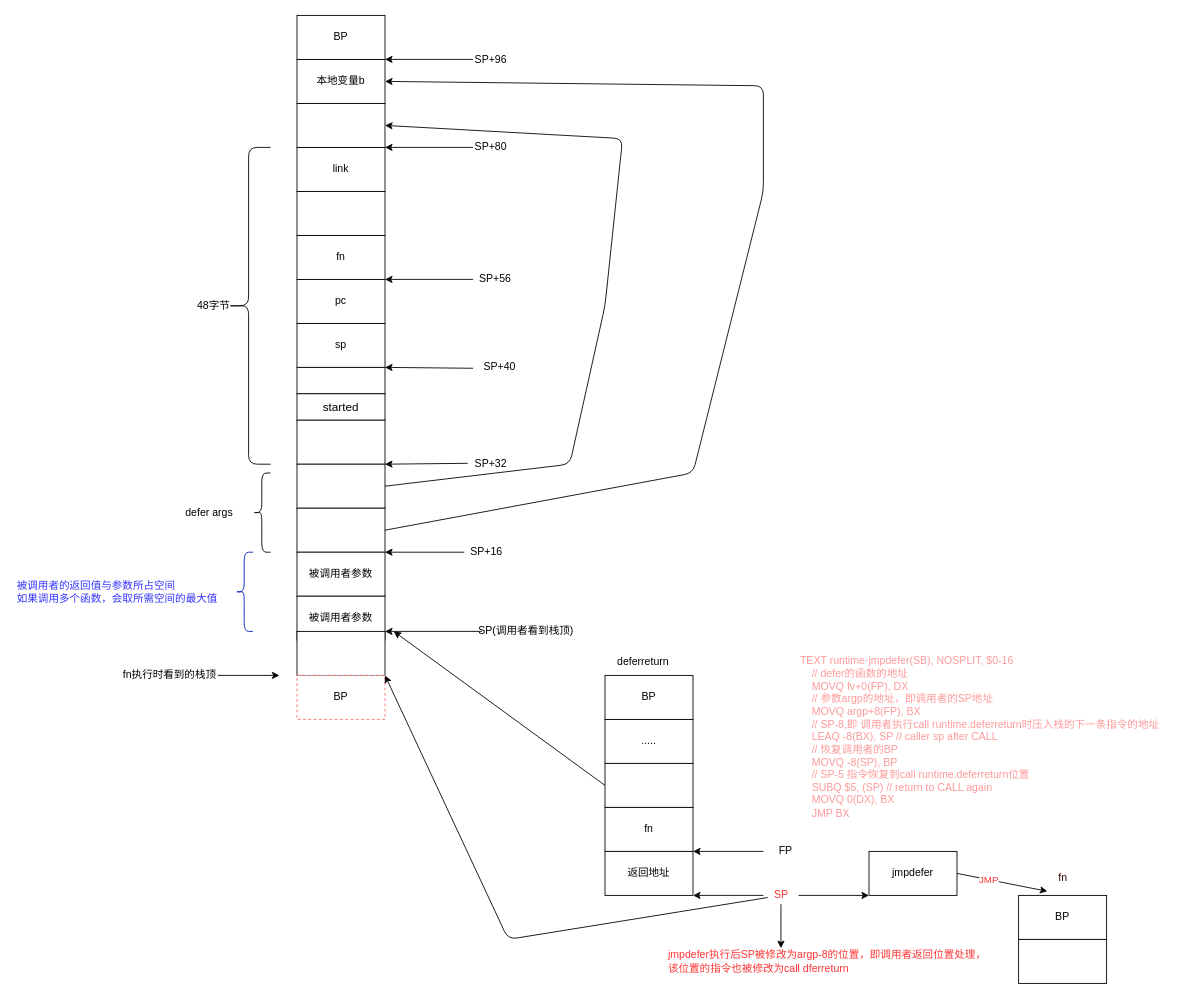
This 1192x999 diagram has some shape labels left out. The centre of each missing label's shape, as x and y in pixels:
"_panic" belongs at point 340,213.
"argp" belongs at point 648,785.
"args[0] 变量b的值2" belongs at point 340,529.
"args[1] 变量a的值1" belongs at point 340,485.
"heap" belongs at point 340,380.
"size" belongs at point 340,441.
"本地变量a" belongs at point 340,125.
"返回地址 被修改为call deferreturn的地址" belongs at point 340,653.
